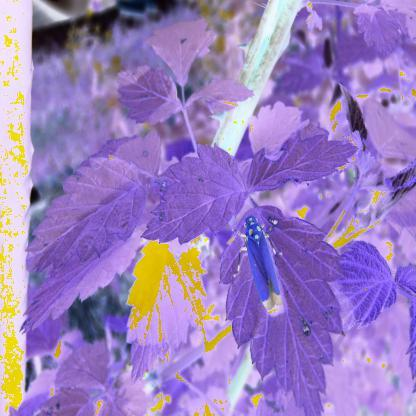Raspberry leaf: (220, 203, 346, 416), (20, 153, 172, 329), (130, 230, 210, 379), (141, 136, 240, 256), (245, 121, 361, 200), (332, 236, 398, 331), (148, 11, 216, 94), (111, 60, 186, 126), (187, 70, 257, 114), (250, 103, 304, 151), (390, 258, 416, 298)
